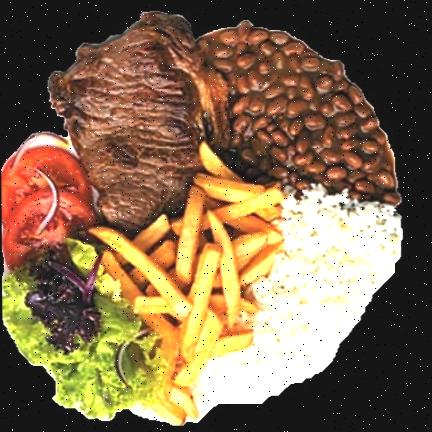beans: (199, 20, 400, 202)
meat: (52, 11, 228, 233)
potato: (90, 140, 288, 426)
rice: (187, 188, 398, 424)
salad: (2, 238, 168, 424)
tomato: (1, 153, 96, 265)
